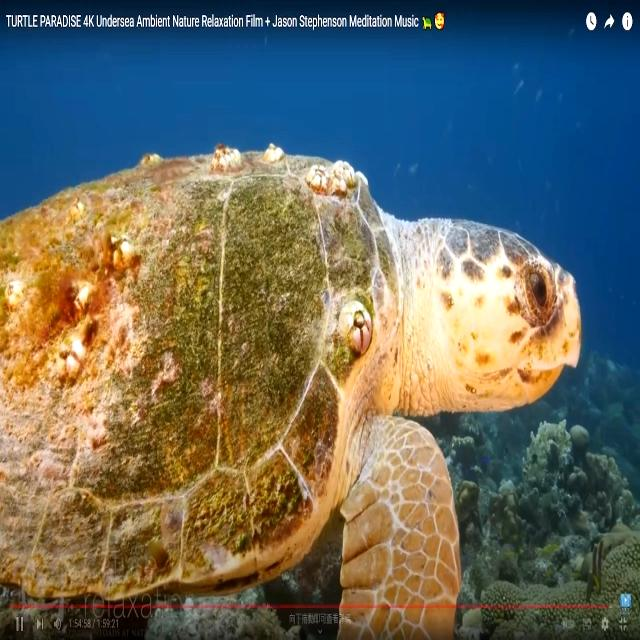Sea turtle: (0, 140, 582, 639)
